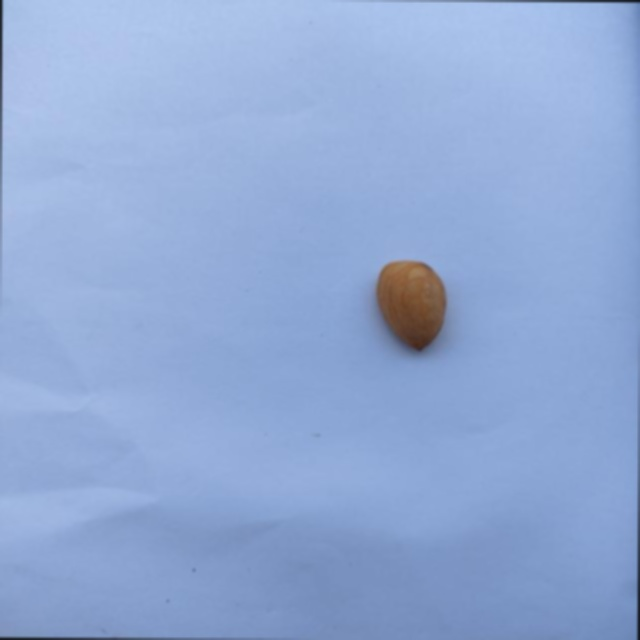grade2: (369, 257, 450, 354)
